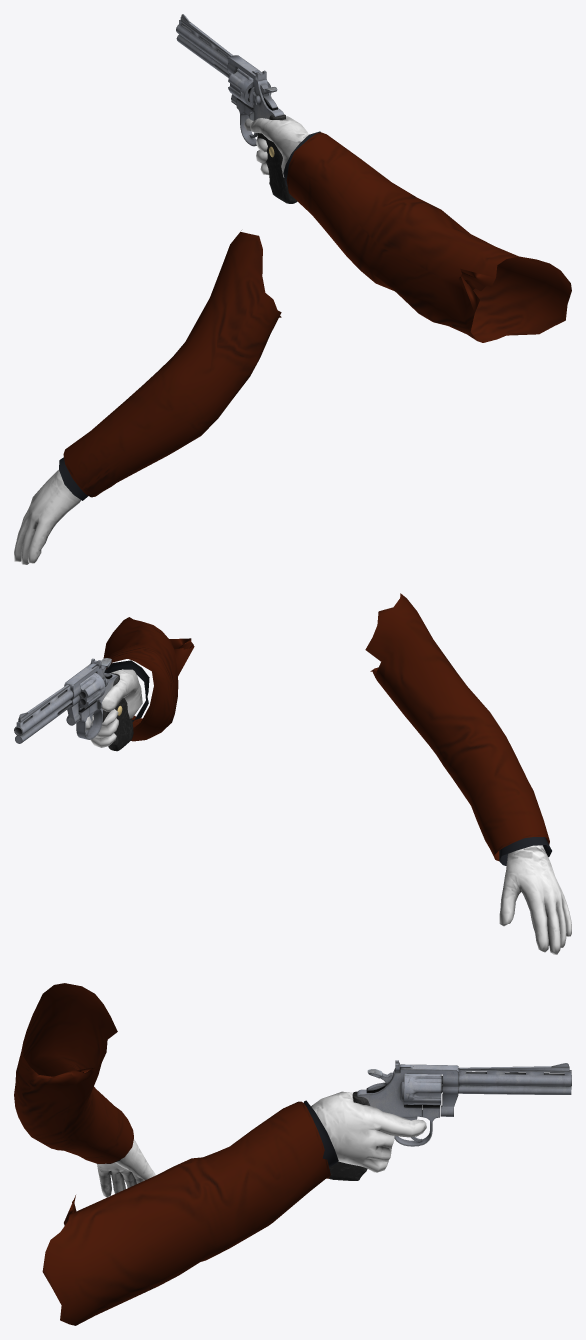
File: frame_13.obj
3 views of the same model, one above another, from view 1: azimuth 30°, elevation 25°; view 2: azimuth 150°, elevation 25°; view 3: azimuth 270°, elevation 25° (orthographic). The views are drawn at different scales.
Visible parts, largest first — view 1: PlayerModelMerged.001_PlayerModelMerged, Plane.008_meshId0_name; view 2: PlayerModelMerged.001_PlayerModelMerged, Plane.008_meshId0_name, Plane.001_meshId0_name.001; view 3: PlayerModelMerged.001_PlayerModelMerged, Plane.008_meshId0_name, Plane.001_meshId0_name.001.
Boxes of the visible parts, x1,y1,x2,y2 form: PlayerModelMerged.001_PlayerModelMerged: (14,116,571,564); Plane.008_meshId0_name: (176,14,297,203); PlayerModelMerged.001_PlayerModelMerged: (85,593,571,954); Plane.008_meshId0_name: (14,658,133,751); Plane.001_meshId0_name.001: (78,672,105,710); PlayerModelMerged.001_PlayerModelMerged: (14,983,426,1325); Plane.008_meshId0_name: (329,1060,571,1180); Plane.001_meshId0_name.001: (404,1073,442,1105).
Size of what is drawn, in the model's own units: 1.14 by 0.6584 by 0.9949.
